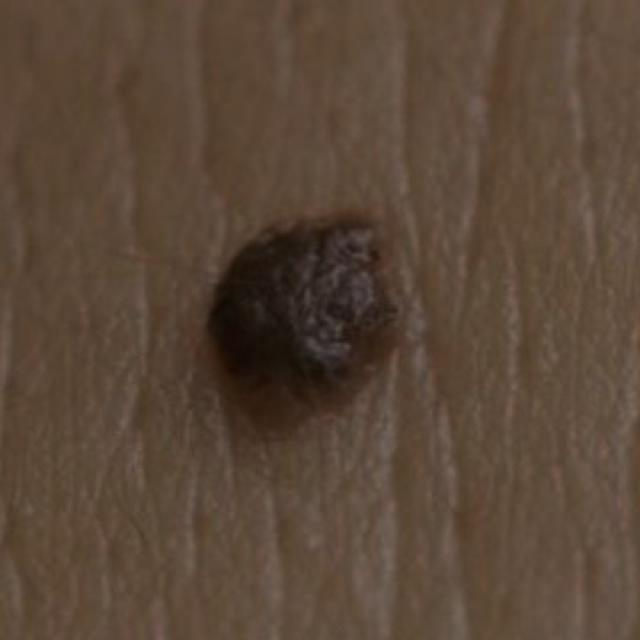wart: (164, 187, 464, 455)
